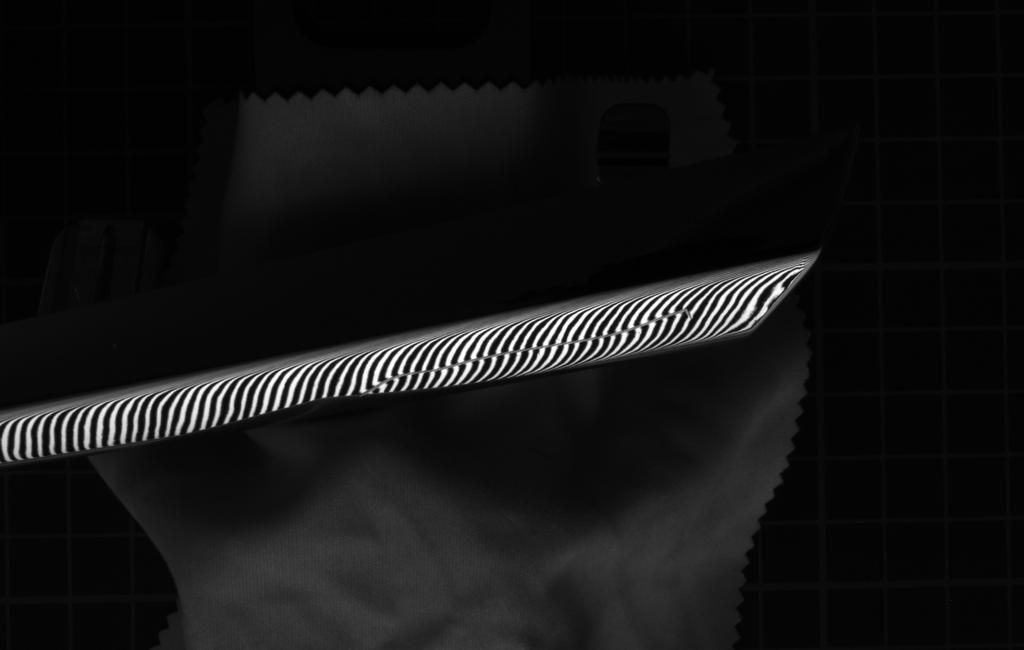Scratch: (358, 299, 695, 399)
